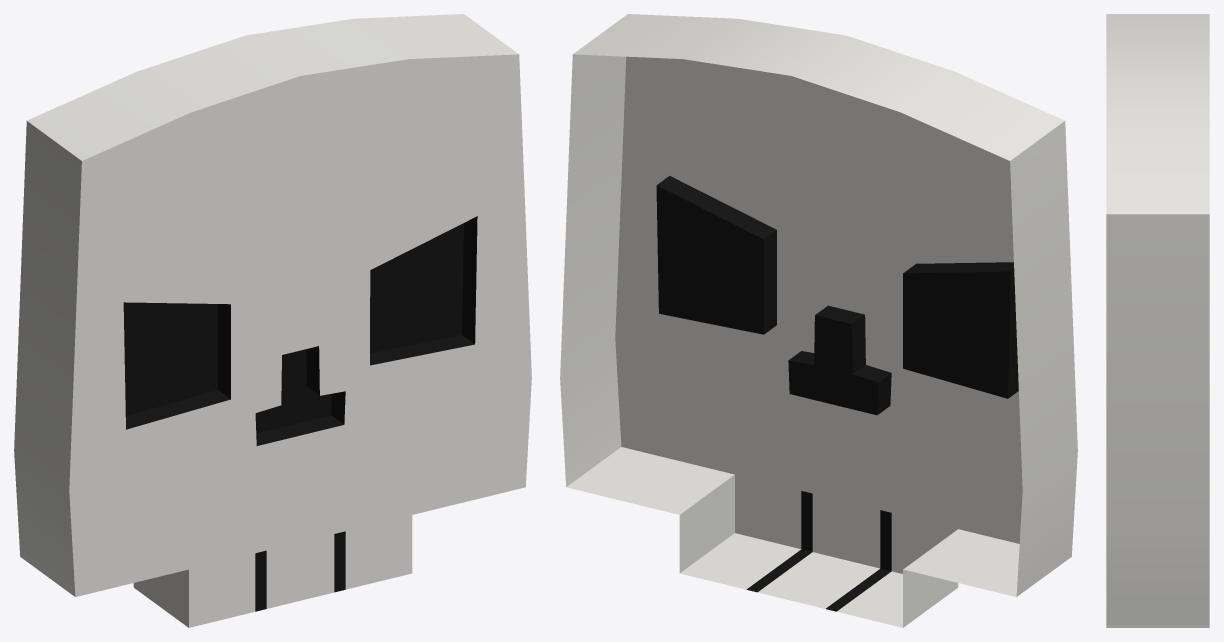
Rendered from Mask 01.FBX.
3 views of the same model, side by side, from view 1: azimuth 30°, elevation 25°; view 2: azimuth 150°, elevation 25°; view 3: azimuth 270°, elevation 25° (orthographic). The views are drawn at different scales.
Visible parts, largest first — view 1: Mask 01; view 2: Mask 01; view 3: Mask 01.
Boxes of the visible parts, <box> form: Mask 01: <box>14,14,531,627</box>; Mask 01: <box>560,14,1077,627</box>; Mask 01: <box>1106,14,1209,627</box>.
Size of the model in its own units: 49.15 by 53.27 by 10.16.
Materials: 1 (1 with a texture image).
